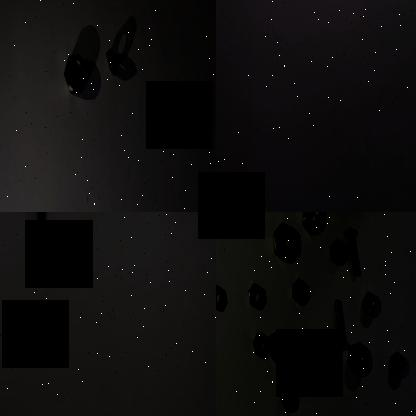Bolts: (342, 226, 362, 280), (333, 294, 346, 355), (30, 212, 53, 227)
NUTS: (58, 41, 92, 113), (103, 42, 131, 84), (269, 326, 291, 373), (302, 334, 324, 380), (343, 342, 371, 378), (387, 347, 408, 389), (276, 382, 298, 416), (244, 278, 266, 310), (290, 272, 310, 306), (216, 212, 242, 237), (252, 328, 270, 360), (361, 284, 377, 318), (329, 234, 345, 266), (301, 212, 321, 236), (216, 280, 223, 316)
